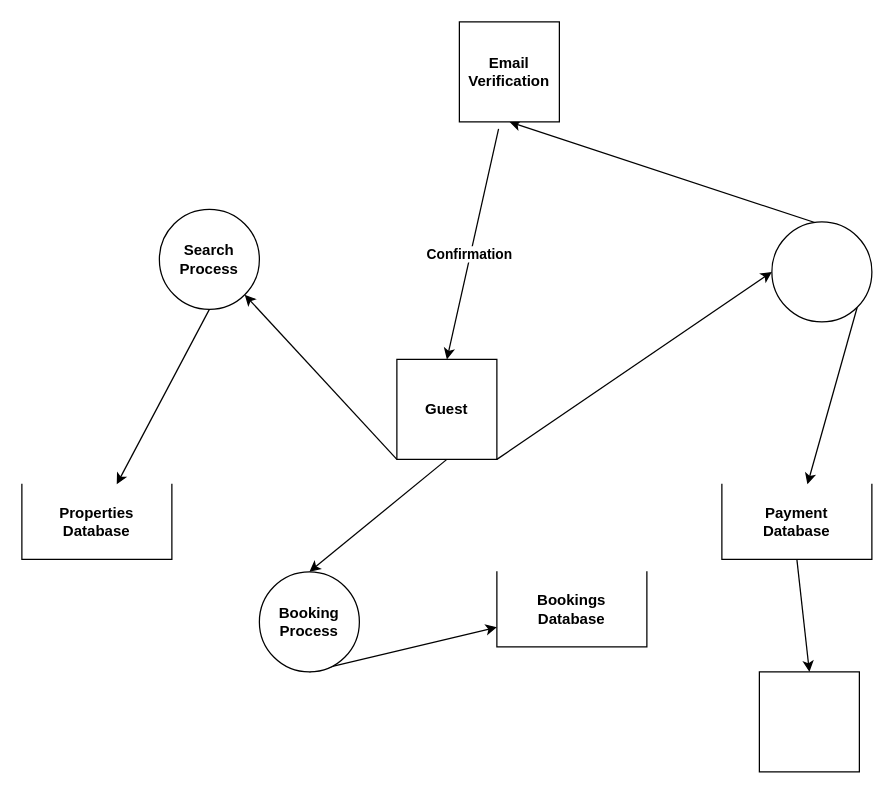
Some shapes in this 894 by 794 pixel diagram are drawn without their labels. Each missing label, with the centre of its shape:
"Payment Gateway" belongs at point 808,721.
"Payment Process" belongs at point 821,271.
